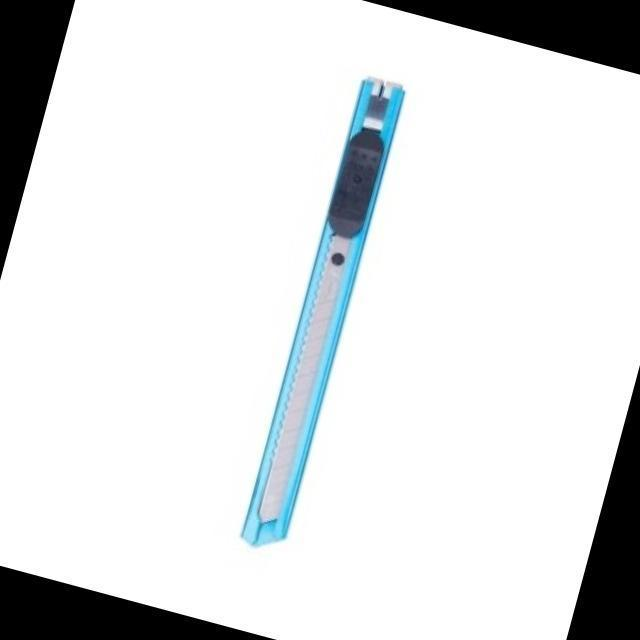cutter: (228, 77, 416, 565)
